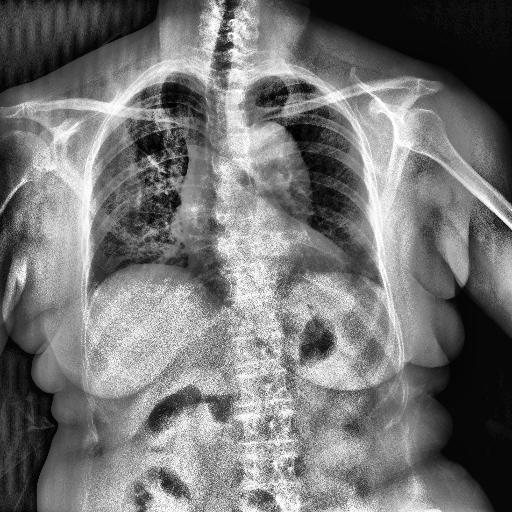0- Aortic enlargement: (230, 122, 317, 286), (236, 105, 318, 238), (178, 124, 312, 192)
8- Nodule-Mass: (166, 200, 212, 247)
